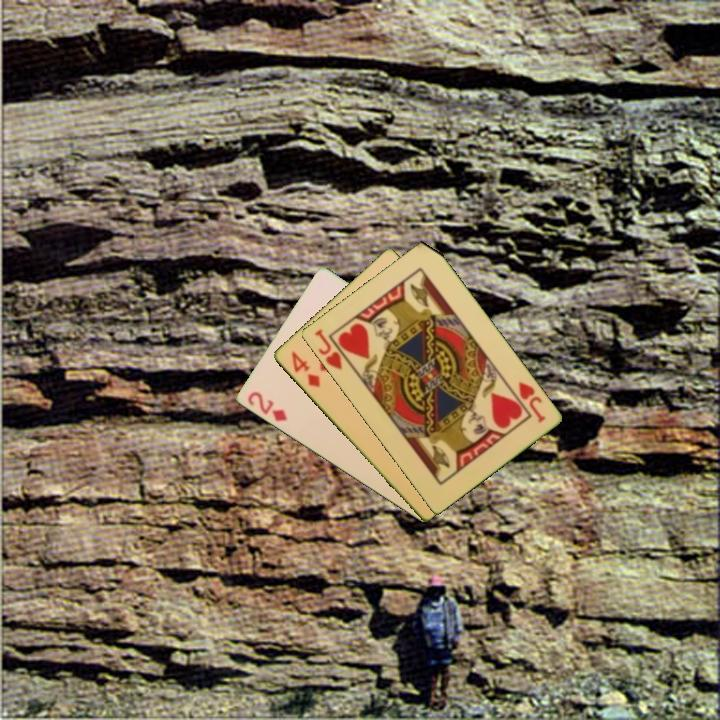2d: (243, 388, 290, 424)
4d: (287, 348, 323, 390)
Jh: (311, 325, 354, 373), (514, 378, 548, 426)
